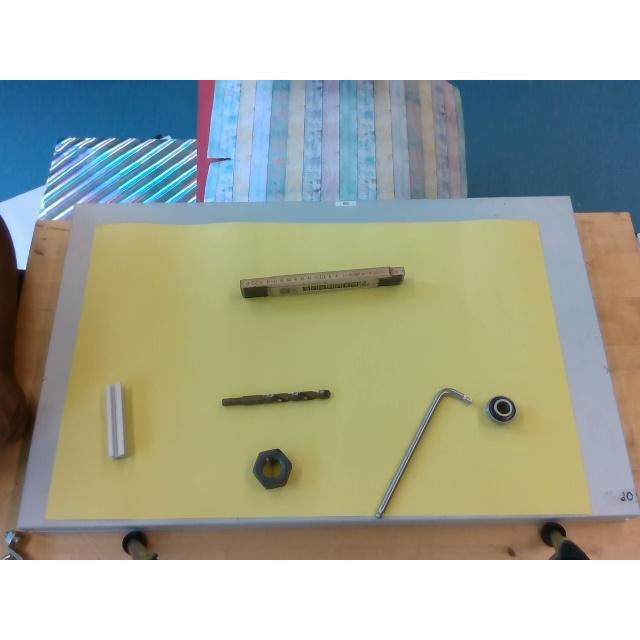AllenKey: (374, 387, 472, 518)
Bearing2: (488, 395, 516, 423)
Drill: (222, 389, 331, 405)
F20_20_G: (106, 382, 126, 458)
M30: (253, 448, 291, 488)
